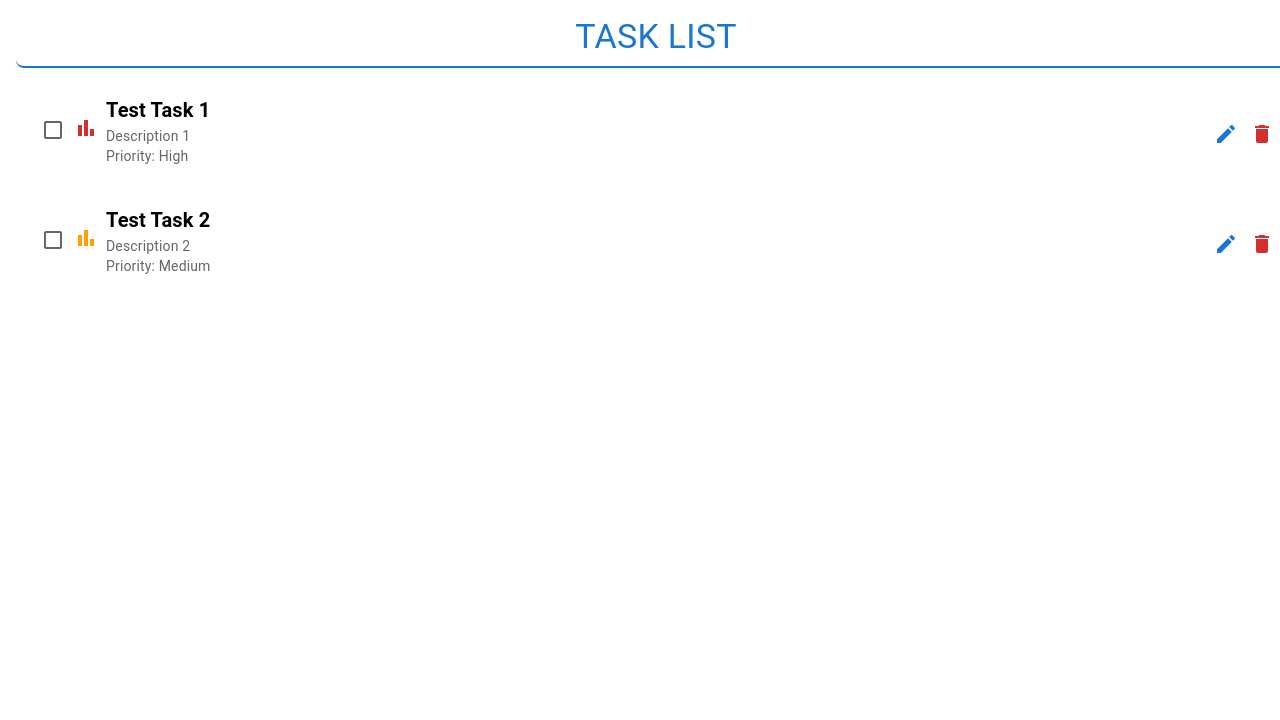
Test: TaskList Component › opens delete confirmation dialog when delete button is clicked
Click the 1st button named "delete": (1261, 134) top-left (1242, 114), bottom-right (1279, 154)
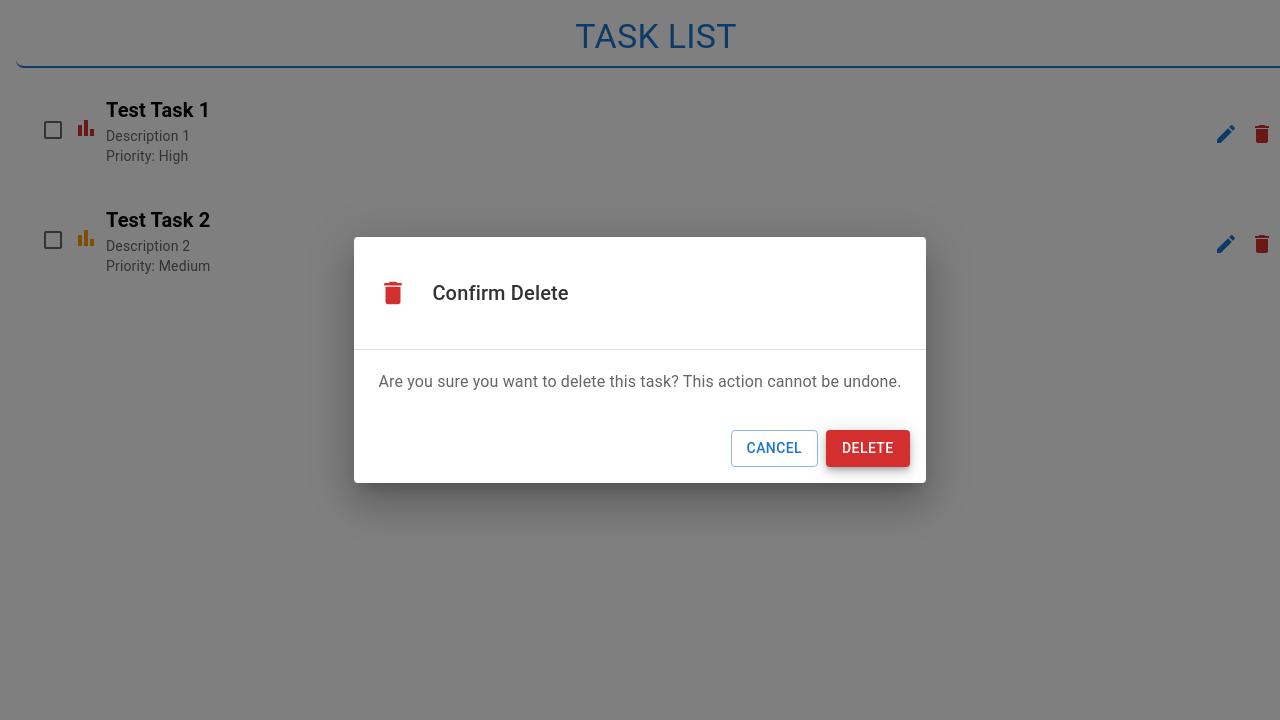
Expected: the text "Are you sure you want to delete this task? This action cannot be undone." is shown, top-left (378, 370), bottom-right (902, 394)
